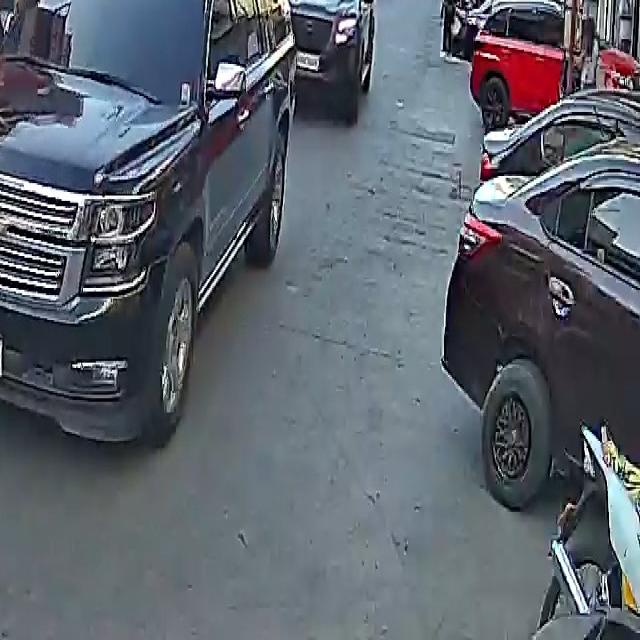car: (0, 0, 309, 439), (444, 82, 640, 537), (463, 0, 583, 126), (285, 0, 380, 124)
